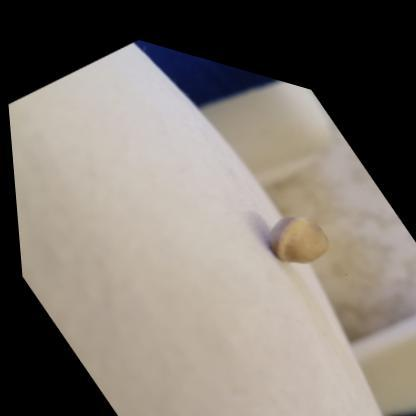pistachio: (265, 206, 329, 263)
